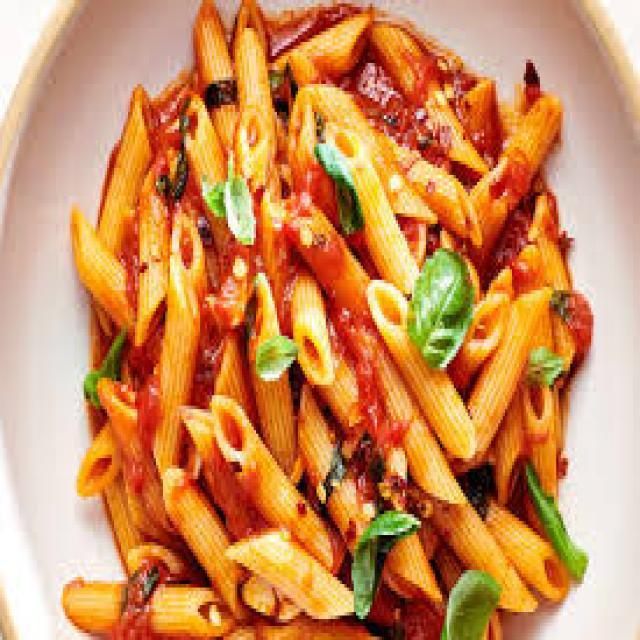Wet: (65, 10, 593, 608)
